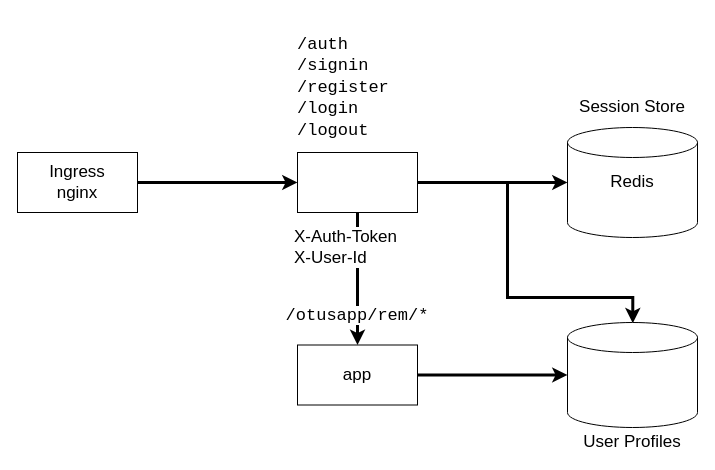
The diagram is 715 pixels wide and 470 high, and some of its shapes have lost their labels. Each missing label, with the box of its shape:
auth: (296, 152, 418, 212)
postgres: (566, 322, 698, 428)
